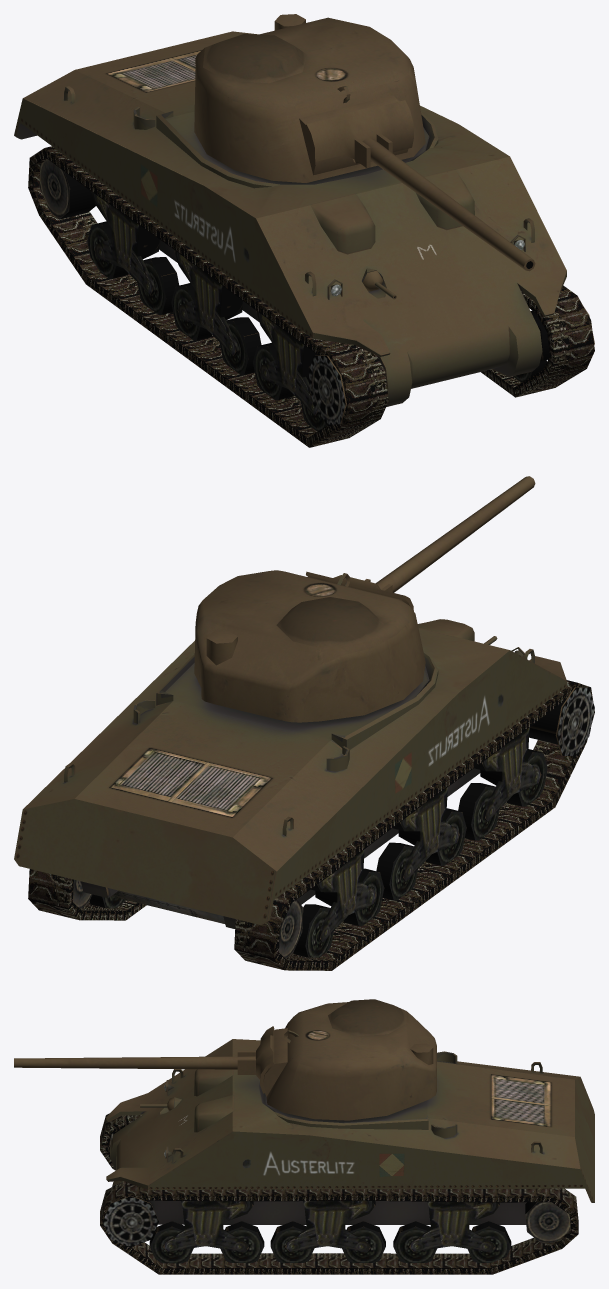
The picture shows the model from 3 angles, top to bottom: view 1: azimuth 30°, elevation 25°; view 2: azimuth 150°, elevation 25°; view 3: azimuth 270°, elevation 25°; orthographic projection. The views are drawn at different scales.
Parts seen in each view (by area): view 1: Body, Сombat_Tower, Gusineca_01, Gusineca_00, Rolling_ Armour_Mlya)), gunpoint_mlya))), Wheel16, Object01, Wheel14, Wheel12, Wheel11, Wheel15 (+1 smaller); view 2: Body, Сombat_Tower, Gusineca_01, gunpoint_mlya))), Gusineca_00, Object01, Wheel13, Wheel11, Wheel15, Wheel16, Wheel14, Wheel12 (+3 smaller); view 3: Body, Сombat_Tower, Gusineca_00, gunpoint_mlya))), Wheel02, Wheel09, Rolling_ Armour_Mlya)), Wheel04, Wheel06, Wheel08, Wheel07, Wheel05 (+2 smaller).
Part boxes in pixels (x1,y1,x2,y2): Body: [14, 31, 566, 415]; Сombat_Tower: [194, 14, 425, 182]; Gusineca_01: [28, 146, 388, 447]; Gusineca_00: [481, 285, 594, 397]; Rolling_ Armour_Mlya)): [306, 100, 413, 168]; gunpoint_mlya))): [362, 138, 535, 271]; Wheel16: [39, 159, 95, 219]; Object01: [308, 355, 346, 424]; Wheel14: [137, 257, 179, 314]; Wheel12: [219, 317, 261, 375]; Wheel11: [253, 342, 293, 400]; Wheel15: [87, 221, 128, 278]; Body: [14, 619, 566, 942]; Сombat_Tower: [194, 570, 425, 722]; Gusineca_01: [234, 680, 594, 970]; gunpoint_mlya))): [375, 476, 535, 592]; Gusineca_00: [28, 869, 146, 920]; Object01: [555, 687, 594, 756]; Wheel13: [376, 842, 417, 900]; Wheel11: [458, 783, 499, 840]; Wheel15: [293, 904, 333, 957]; Wheel16: [279, 899, 303, 958]; Wheel14: [343, 868, 384, 926]; Wheel12: [426, 808, 466, 865]; Body: [106, 1039, 594, 1252]; Сombat_Tower: [263, 999, 436, 1120]; Gusineca_00: [100, 1181, 578, 1274]; gunpoint_mlya))): [14, 1056, 255, 1069]; Wheel02: [102, 1195, 158, 1247]; Wheel09: [525, 1202, 571, 1243]; Rolling_ Armour_Mlya)): [237, 1026, 274, 1093]; Wheel04: [220, 1221, 264, 1262]; Wheel06: [342, 1221, 385, 1262]; Wheel08: [467, 1221, 511, 1262]; Wheel07: [393, 1221, 437, 1262]; Wheel05: [270, 1221, 314, 1262].
Bounding box in the file's own units: 173 × 180 × 460.
